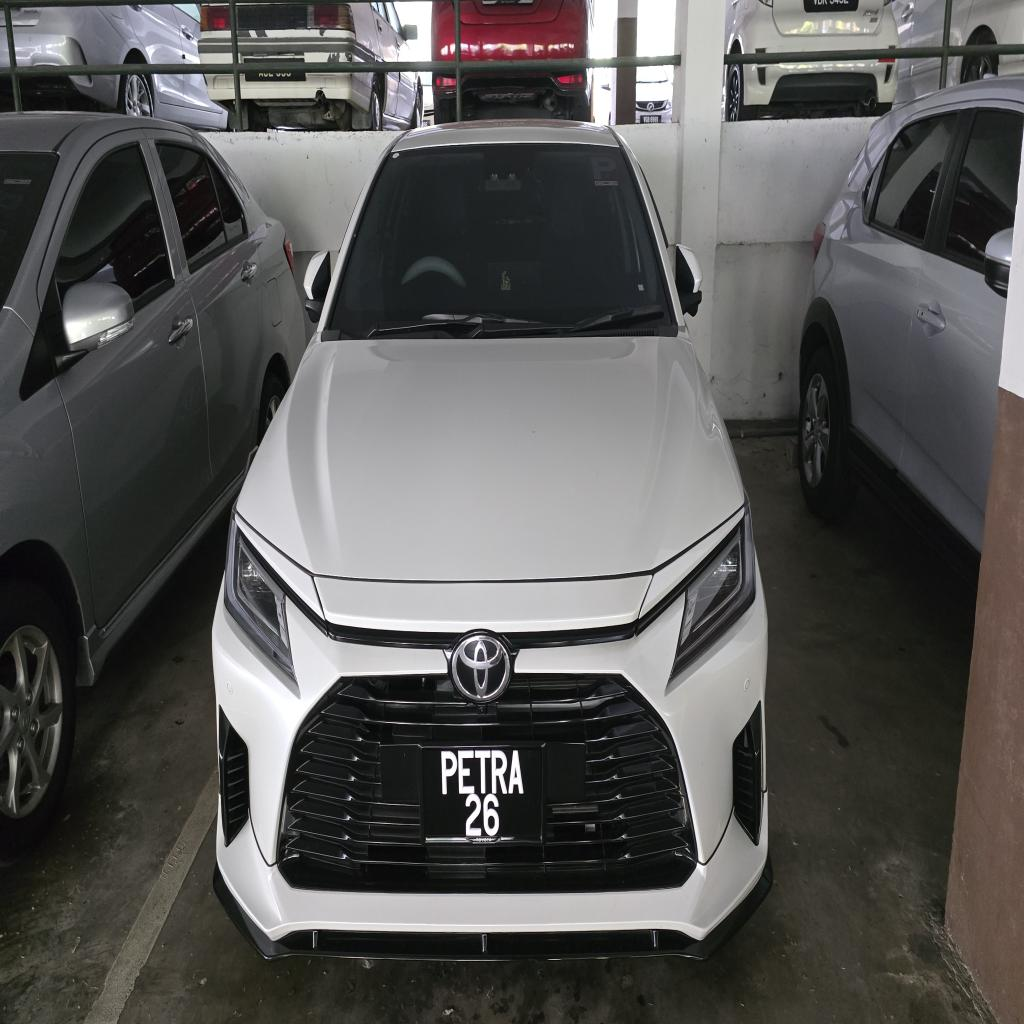car: (213, 121, 771, 958)
car plate: (423, 748, 542, 842)
